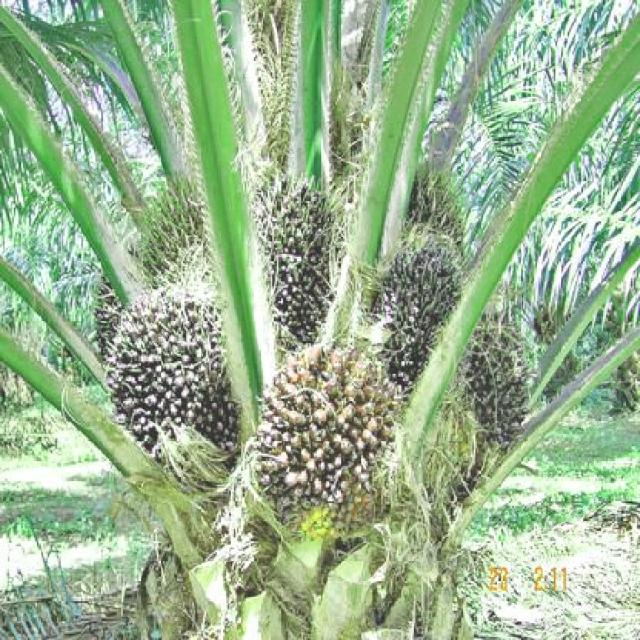palm-oil: (240, 343, 402, 547), (90, 294, 243, 463), (262, 173, 351, 341), (371, 233, 466, 384), (458, 320, 552, 460)
